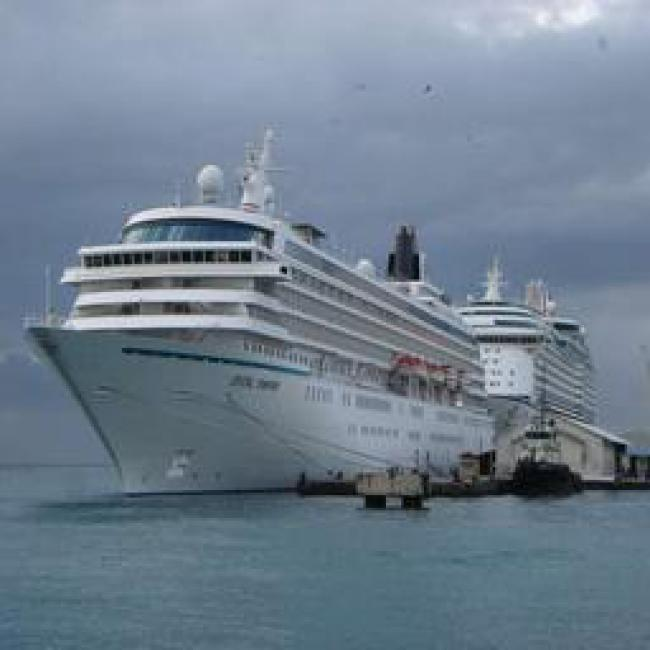Ship: (9, 136, 497, 502)
